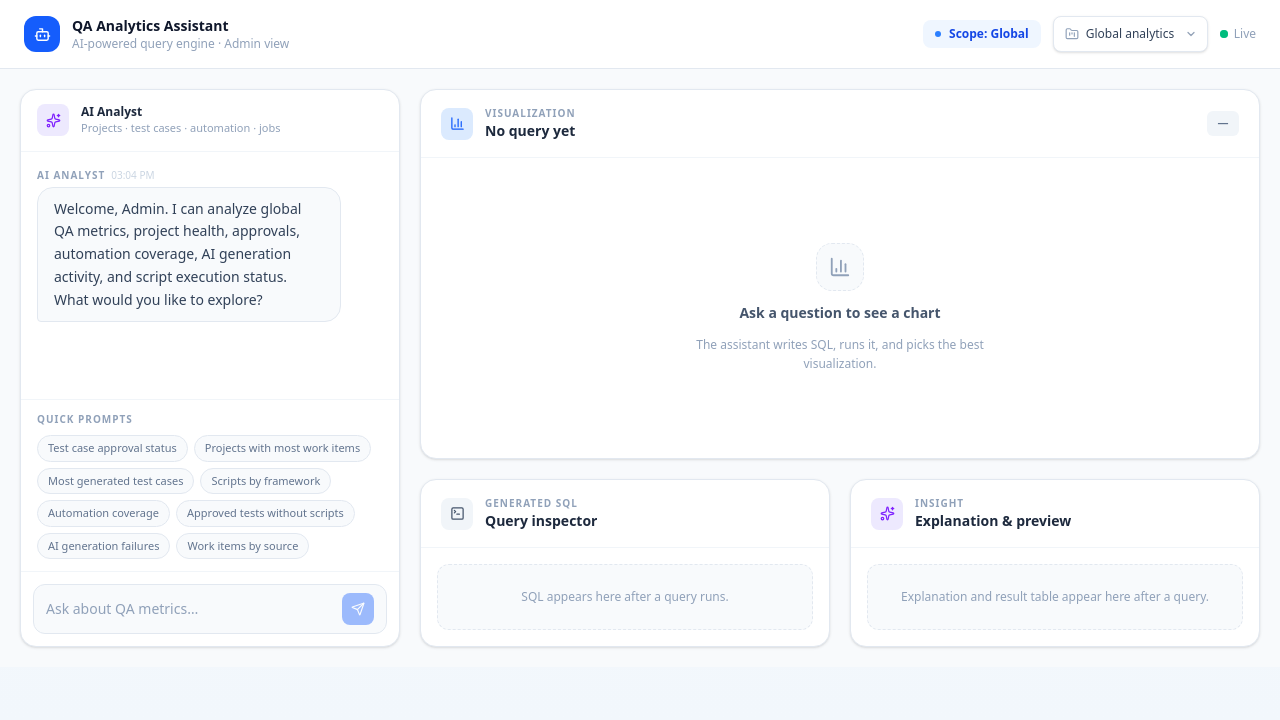
AdminAnalyticsAssistantPage › updates the selected project scope
Select "Alpha Project" in the dropdown at point(1130, 34), box [1053,16,1208,52]
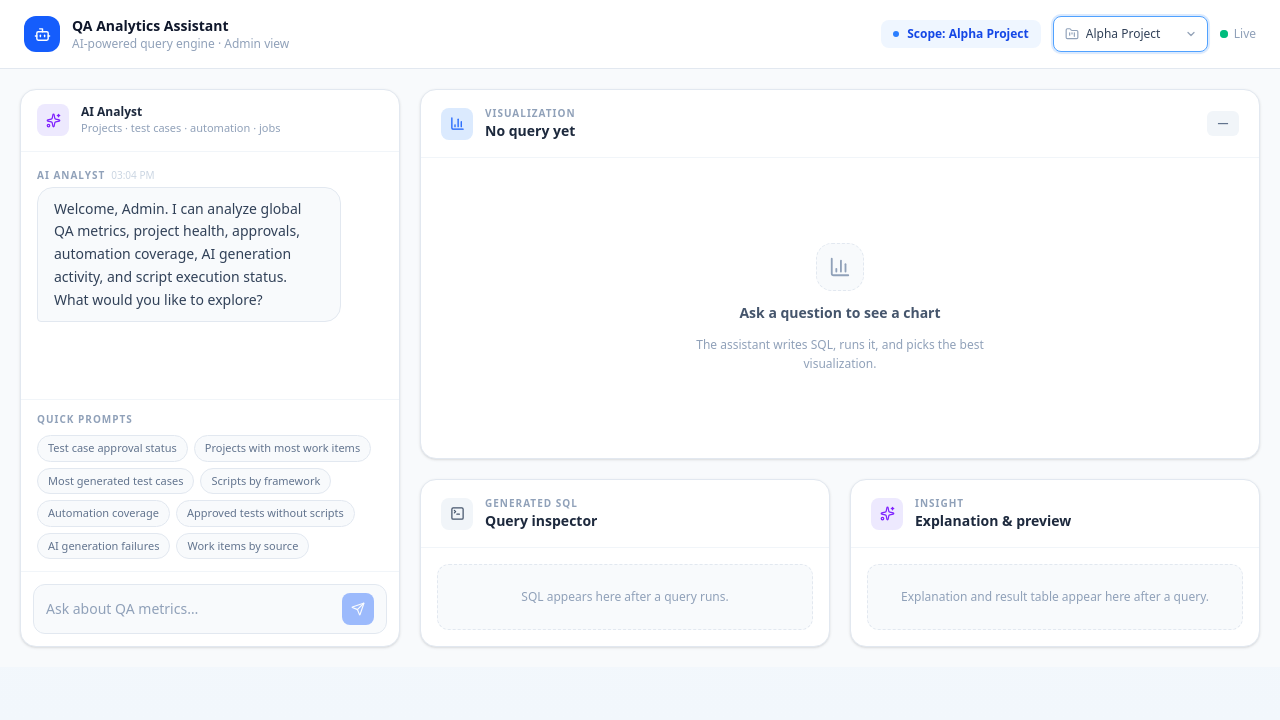
Expected: the text "Scope: Alpha Project" is shown, [907,26,1029,42]
